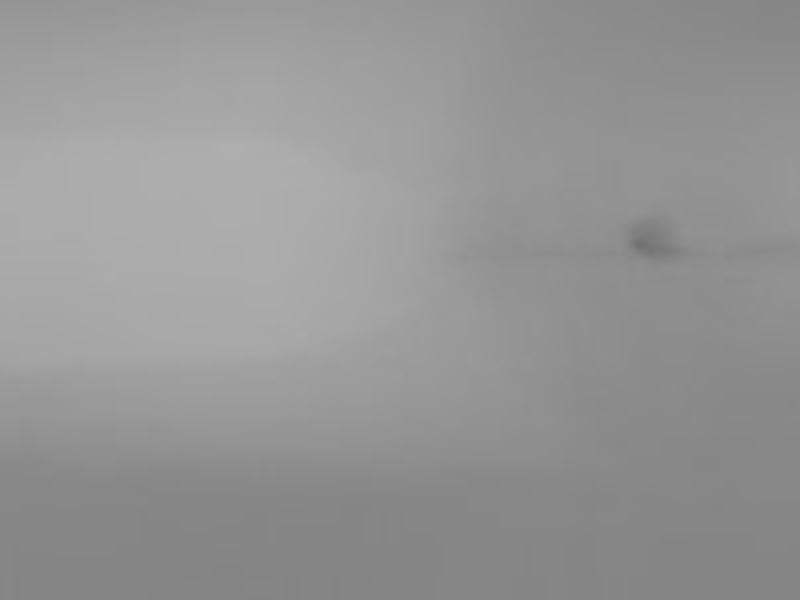defect: (625, 214, 680, 257)
